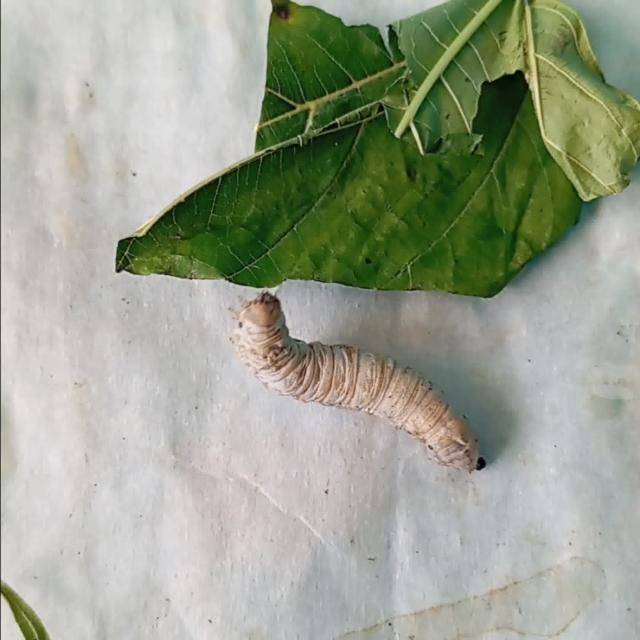Grasserie: (212, 236, 509, 485)
